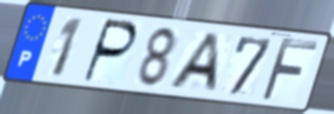1: (46, 15, 85, 79)
7: (228, 35, 275, 97)
8: (137, 25, 179, 90)
A: (165, 31, 220, 95)
F: (258, 35, 321, 104)
P: (80, 17, 140, 86)
